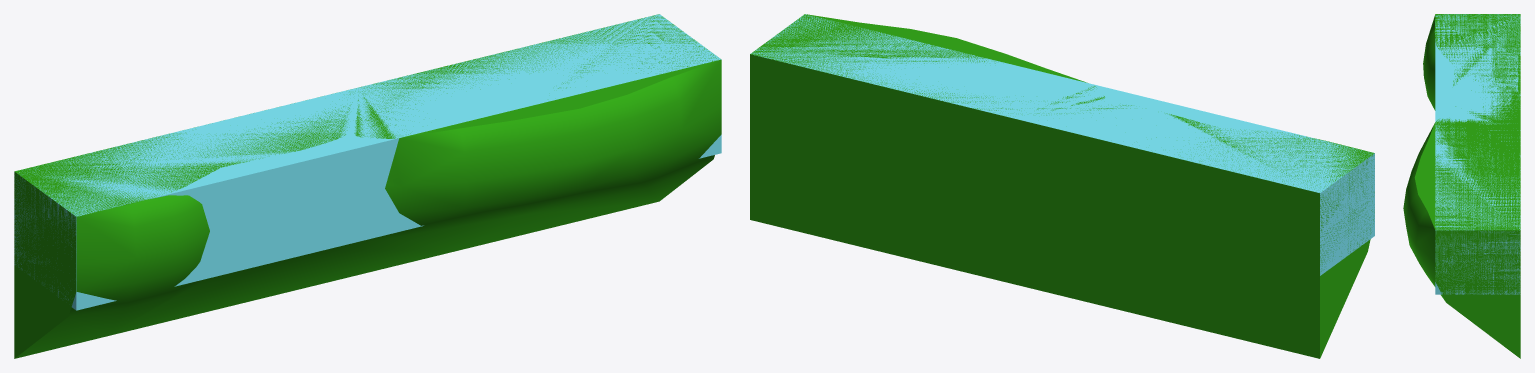
File: PBOX_Grass_BOD_03.FBX
3 renders of one model, left to right at view 1: azimuth 30°, elevation 25°; view 2: azimuth 150°, elevation 25°; view 3: azimuth 270°, elevation 25°, orthographic. The views are drawn at different scales.
Visible parts, largest first — view 1: PBOX_Grass_BOD_03 (×2); view 2: PBOX_Grass_BOD_03 (×2); view 3: PBOX_Grass_BOD_03 (×2).
Part boxes in pixels (box(x1,y1,x2,y2)): PBOX_Grass_BOD_03 (×2): box(14, 14, 721, 358); PBOX_Grass_BOD_03 (×2): box(750, 14, 1374, 358); PBOX_Grass_BOD_03 (×2): box(1403, 14, 1520, 358).
Size of the model in its own units: 18 by 5 by 4.12.
